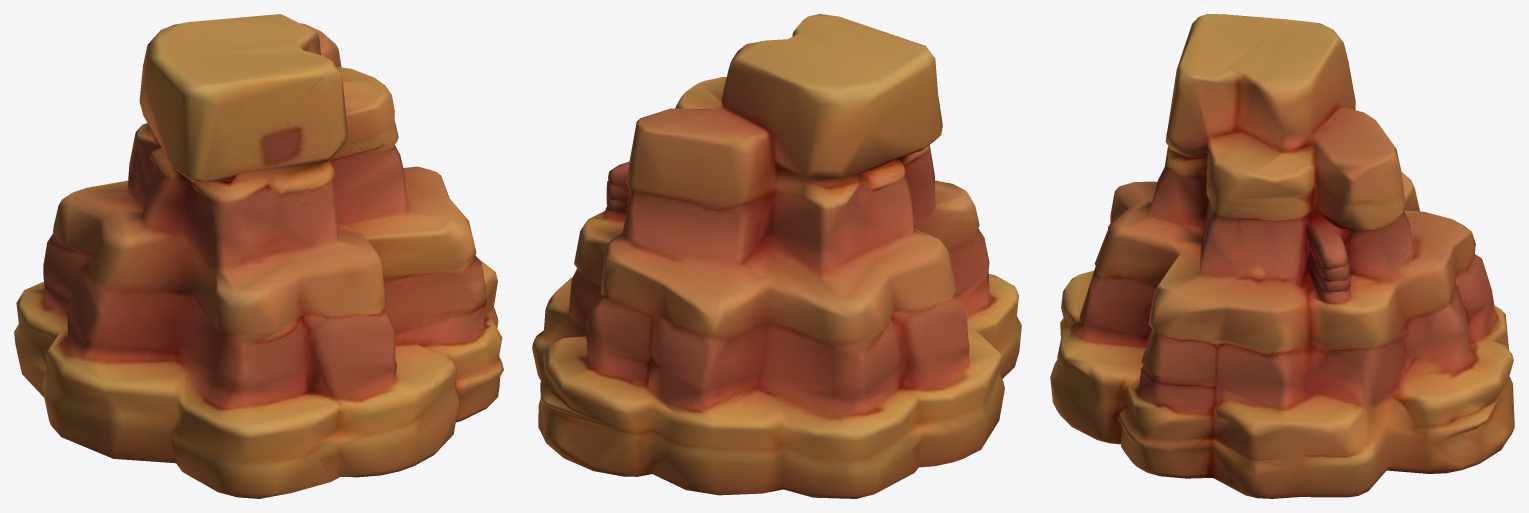
Rendered from mesa.glb.
3 renders of one model, left to right at view 1: azimuth 30°, elevation 25°; view 2: azimuth 150°, elevation 25°; view 3: azimuth 270°, elevation 25°, orthographic. The views are drawn at different scales.
Parts seen in each view (by area): view 1: tripo_node_9a4521fb-c516-443e-9fea-d9ed839e81ce; view 2: tripo_node_9a4521fb-c516-443e-9fea-d9ed839e81ce; view 3: tripo_node_9a4521fb-c516-443e-9fea-d9ed839e81ce.
Part boxes in pixels (left/top/right/bottom): tripo_node_9a4521fb-c516-443e-9fea-d9ed839e81ce: left=14, top=14, right=503, bottom=498; tripo_node_9a4521fb-c516-443e-9fea-d9ed839e81ce: left=532, top=14, right=1021, bottom=498; tripo_node_9a4521fb-c516-443e-9fea-d9ed839e81ce: left=1050, top=14, right=1514, bottom=498.
Bounding box in the file's own units: 0.998 × 0.7988 × 0.998.
1 material, 1 textured.
